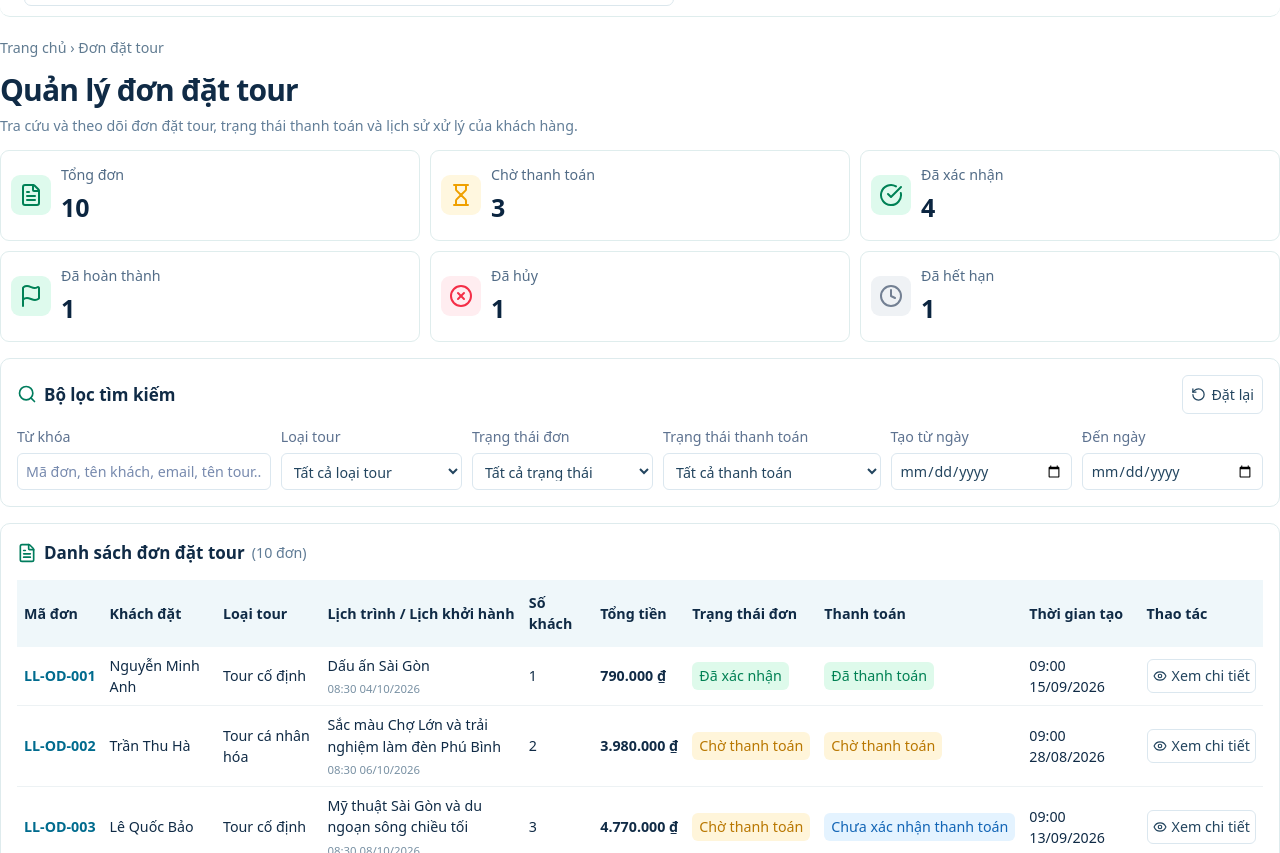
it: brings the selected order detail into keyboard focus for every selection
Click the button with aria-label "Xem chi tiết LL-OD-001". click: (1201, 676)
box: [1147,659,1256,693]
(page scrolled)
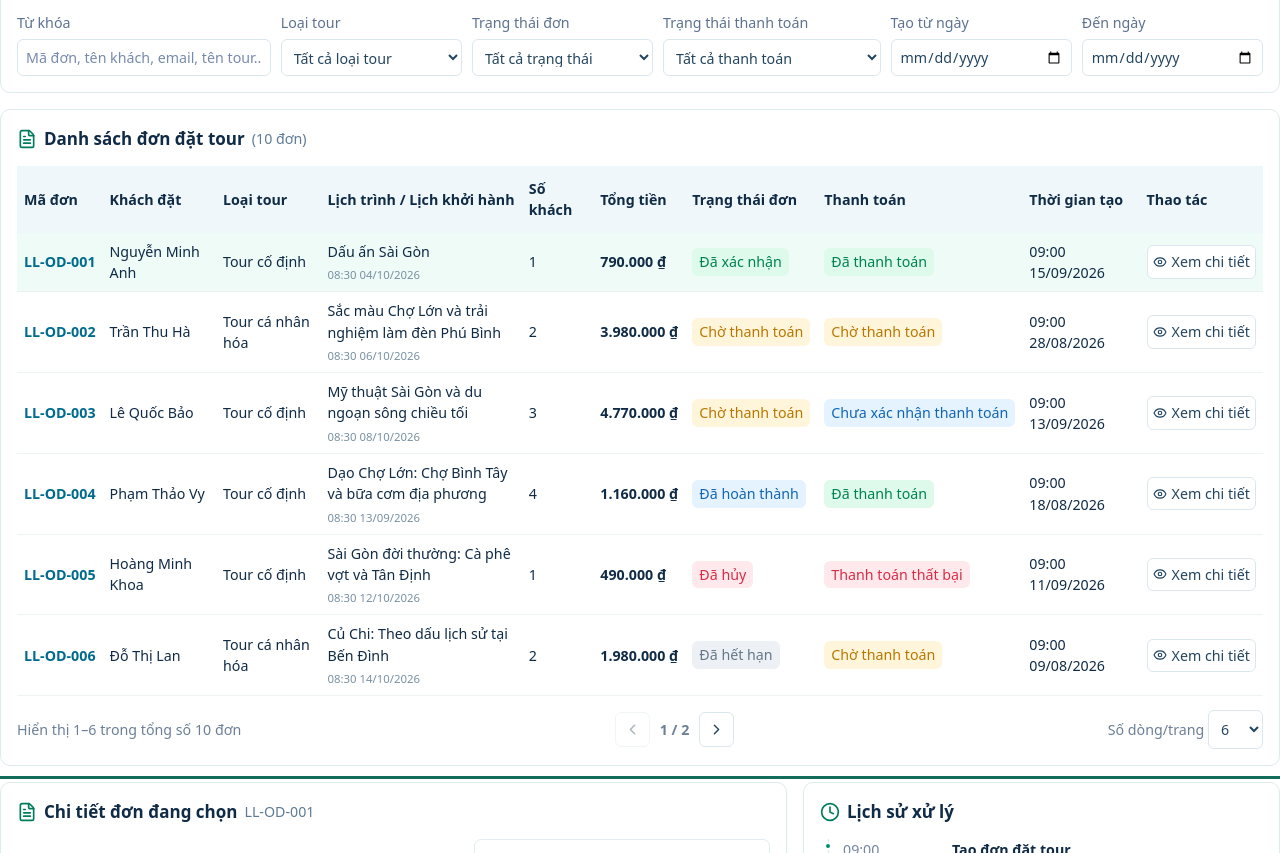
expect the heading "Chi tiết đơn đang chọn LL-OD-001" is shown: met, box [17,800,314,823]
Click the button with aria-label "Xem chi tiết LL-OD-002". click: (1201, 332)
box: [1147,316,1256,349]
(page scrolled)
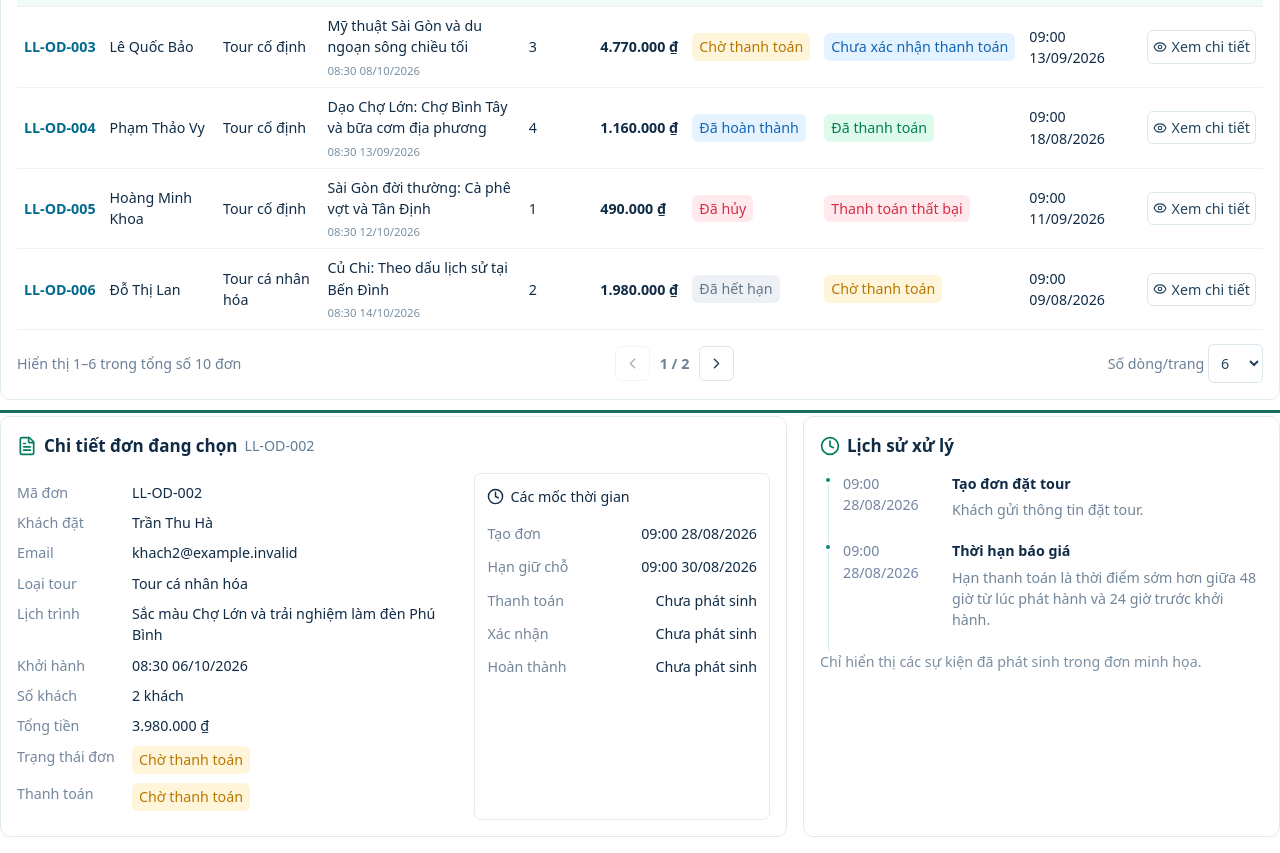
expect the heading "Chi tiết đơn đang chọn LL-OD-002" is shown: met, box [17,434,314,457]
